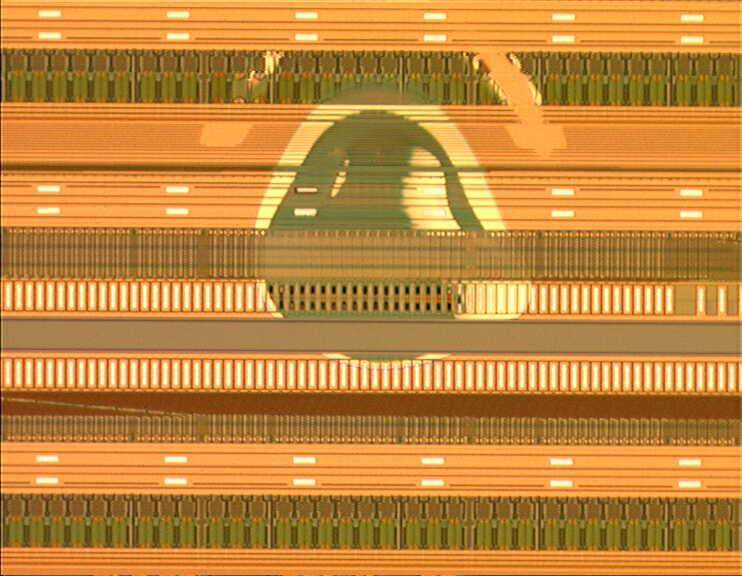BLOCK ETCH: (200, 1, 571, 376)
